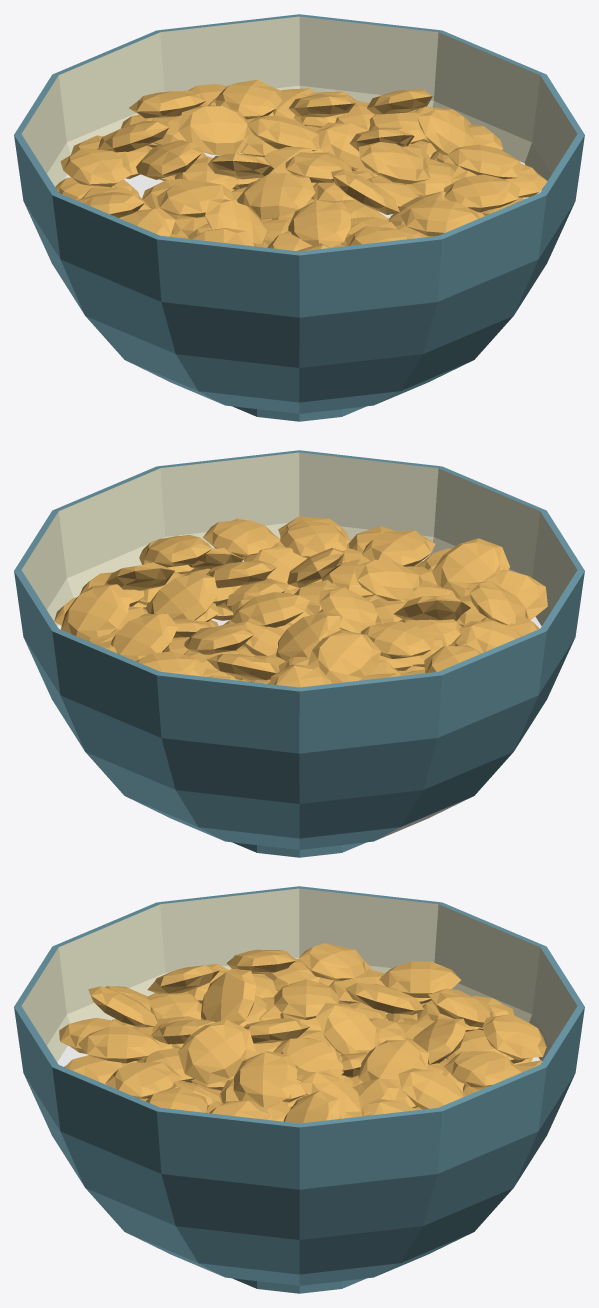
File: bowl of cereal.gltf
3 renders of one model, top to bottom at view 1: azimuth 30°, elevation 25°; view 2: azimuth 150°, elevation 25°; view 3: azimuth 270°, elevation 25°, orthographic.
Parts seen in each view (by area): view 1: node-0; view 2: node-0; view 3: node-0.
Part boxes in pixels (bbox=[...]): node-0: bbox=[14, 14, 584, 421]; node-0: bbox=[14, 450, 584, 857]; node-0: bbox=[14, 886, 584, 1293].
Size of the model in its own units: 2.05 by 1 by 2.05.
